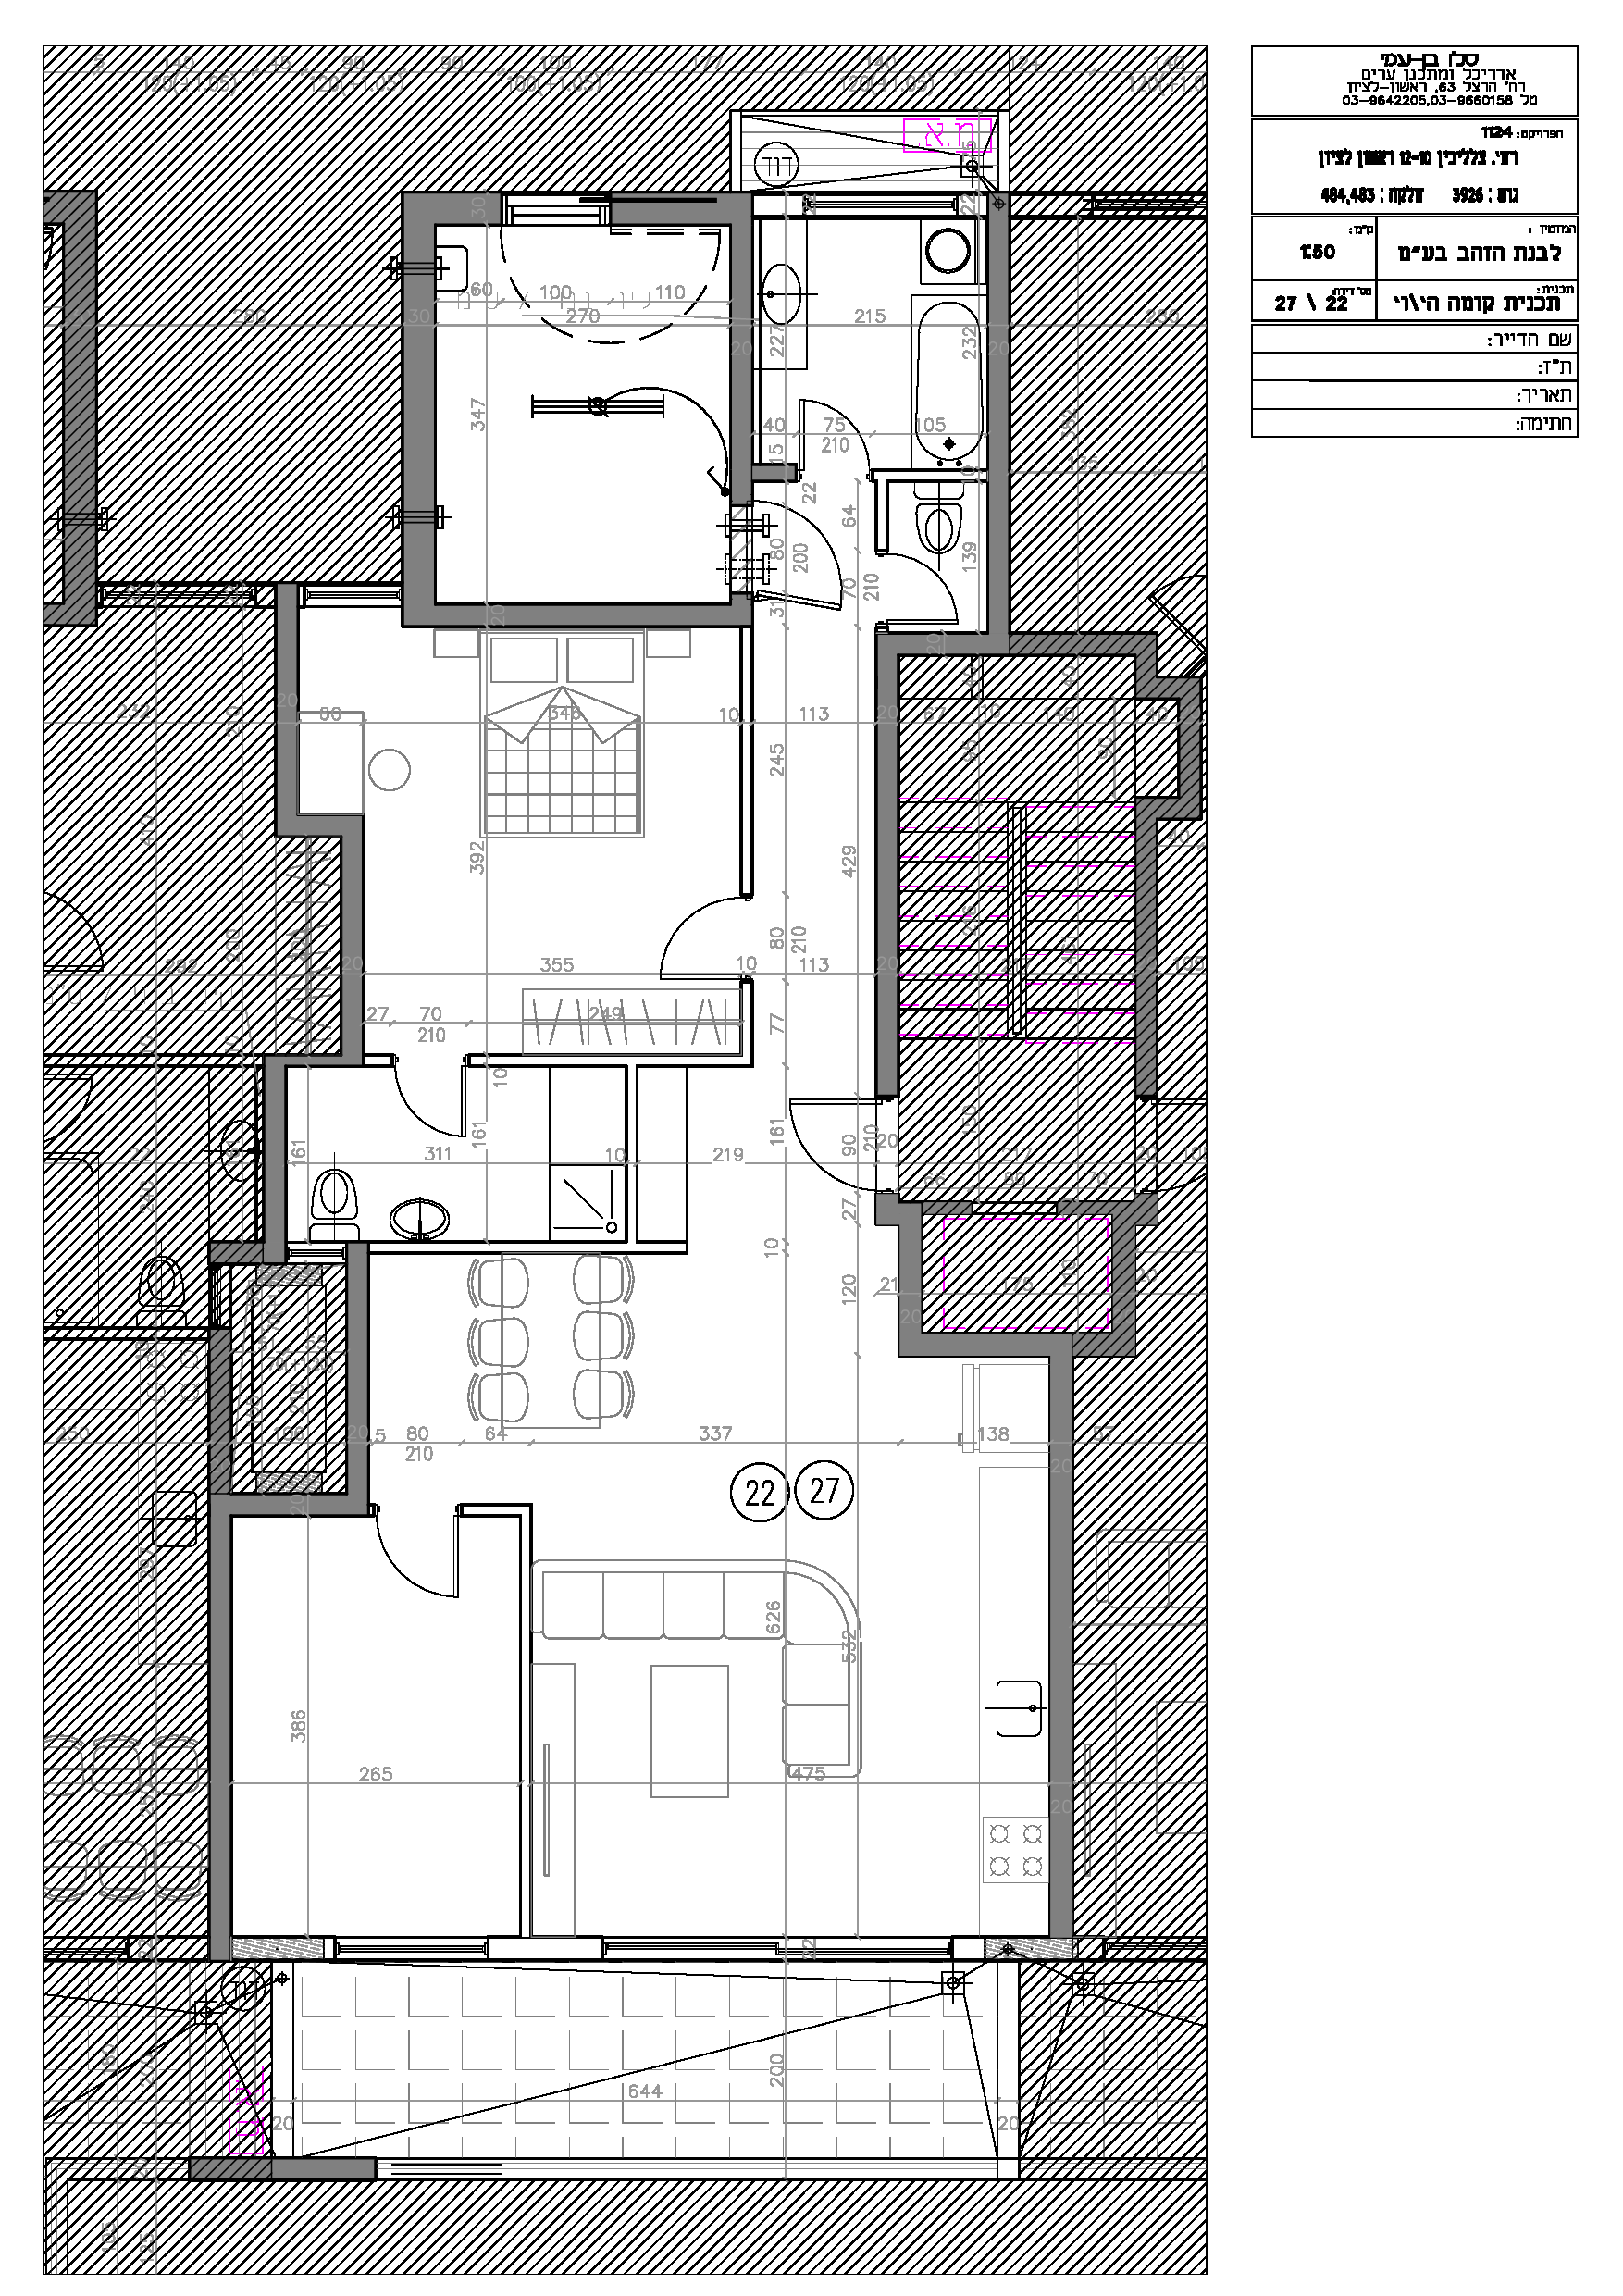door: (383, 1068, 476, 1166), (652, 891, 741, 987), (785, 1094, 868, 1196), (369, 1534, 476, 1602), (894, 543, 966, 631), (790, 393, 875, 458)
rd: (1238, 32, 1597, 474)
wall: (1017, 627, 1207, 704), (1049, 1332, 1073, 1925), (390, 599, 761, 638), (871, 643, 899, 1091), (60, 197, 98, 501), (272, 574, 309, 838), (987, 227, 1012, 618), (334, 805, 369, 1079), (341, 1244, 374, 1525), (209, 1513, 228, 1946), (400, 285, 439, 499), (894, 1326, 1136, 1356), (260, 1056, 290, 1270), (1133, 799, 1154, 1094), (346, 1247, 369, 1509), (214, 1497, 357, 1514)
window: (592, 1934, 964, 1967), (320, 1918, 504, 1975), (495, 181, 618, 242), (797, 184, 970, 227), (299, 567, 408, 617)
